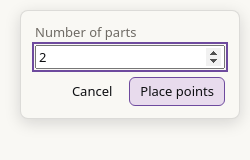
Test: the divide prompt starts at 2 parts and takes 2 to 1000
Later steps or results of the test are not shown.
Replace the text in the number field labelled "Number of parts" with "1": (130, 57) [35, 45, 225, 69]
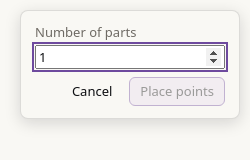
Now the button "Place points" is disabled, box [129, 77, 225, 106]
